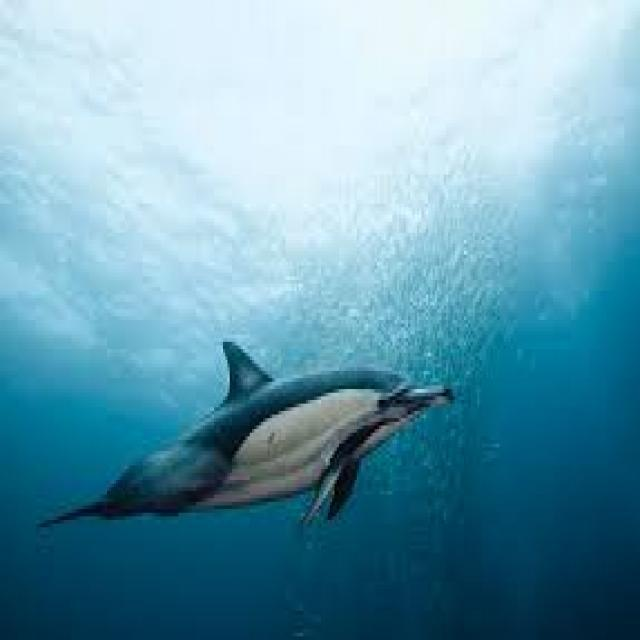dolphin: (40, 342, 455, 604)
